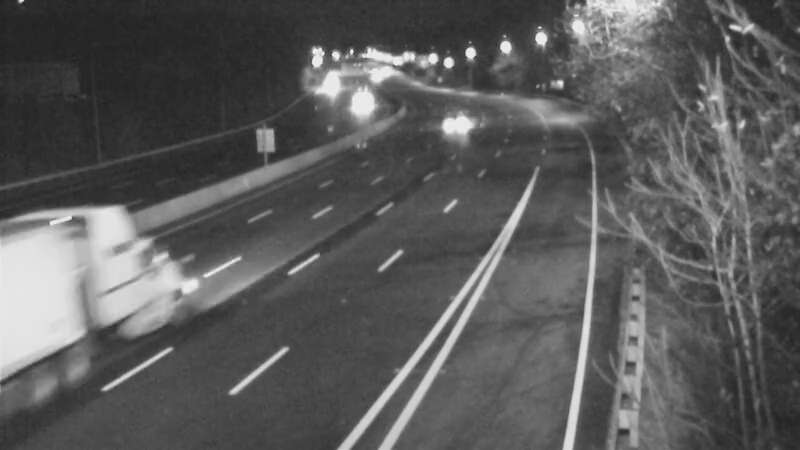vehicle: (21, 257, 131, 367), (429, 99, 479, 149), (336, 77, 386, 127), (307, 56, 357, 106)
